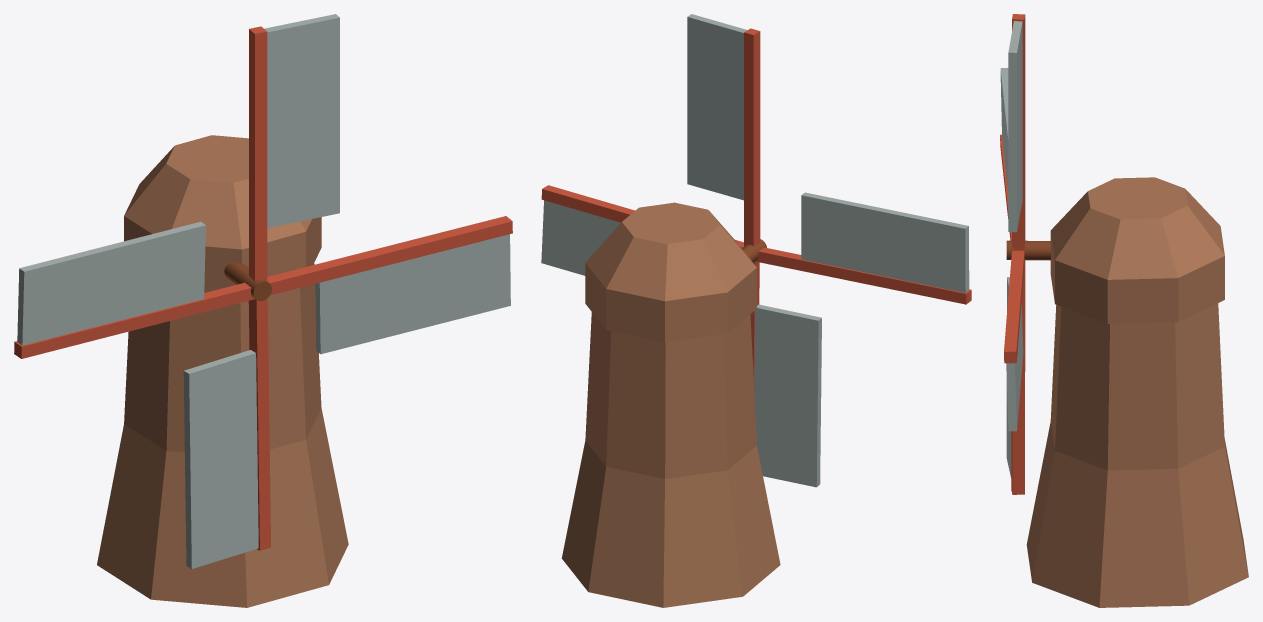
File: Windmill.fbx
3 views of the same model, side by side, from view 1: azimuth 30°, elevation 25°; view 2: azimuth 150°, elevation 25°; view 3: azimuth 270°, elevation 25° (orthographic). The views are drawn at different scales.
Visible parts, largest first — view 1: Wings, Windmill; view 2: Windmill, Wings; view 3: Windmill, Wings.
Part boxes in pixels (box(x1,y1,x2,y2)): Wings: box(14, 14, 512, 568); Windmill: box(97, 135, 348, 607); Windmill: box(561, 202, 780, 607); Wings: box(541, 14, 971, 487); Windmill: box(1026, 177, 1248, 607); Wings: box(1000, 14, 1050, 494).
Size of the model in its own units: 568 by 636 by 270.
